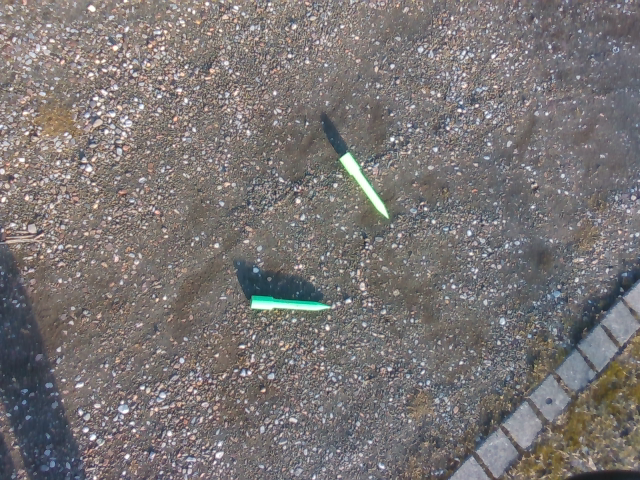Probe: (335, 146, 394, 220), (246, 291, 339, 313)
